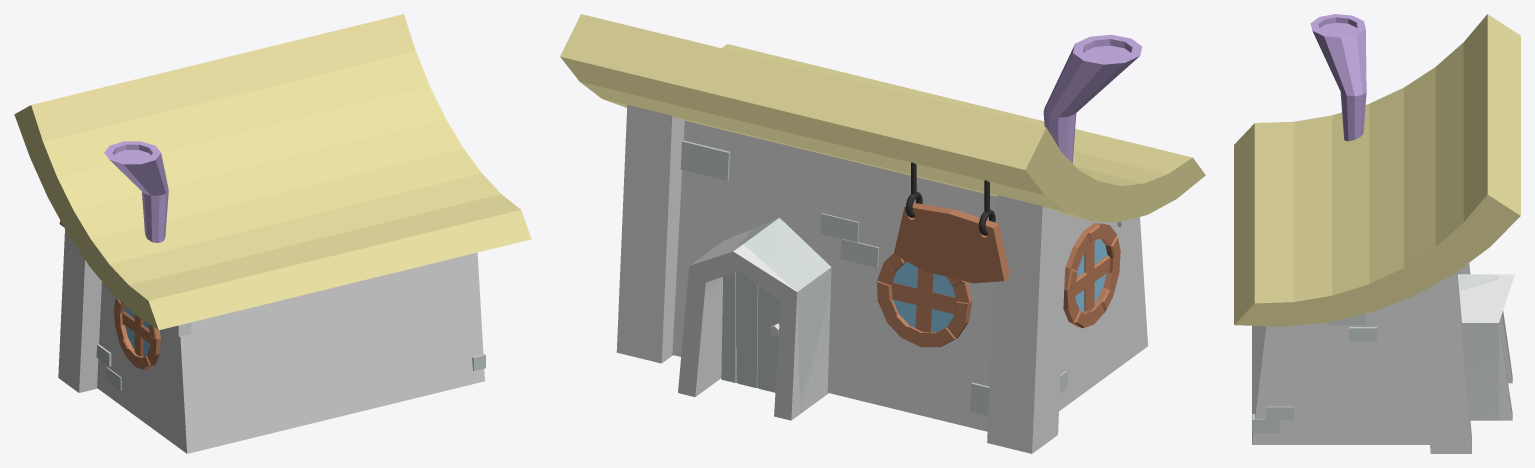
File: House 1.fbx
3 views of the same model, side by side, from view 1: azimuth 30°, elevation 25°; view 2: azimuth 150°, elevation 25°; view 3: azimuth 270°, elevation 25° (orthographic). The views are drawn at different scales.
Visible parts, largest first — view 1: Arc, Cube.002, Cube.004, Cylinder.007, Cylinder.006; view 2: Arc, Cube.002, Cube.004, Cube.003, Polygon.002, Polygon.001, Logo, Door, Cylinder.007, Cylinder.005, Cylinder.006, Circle (+4 smaller); view 3: Arc, Cube.002, Cube.003, Polygon.002, Cylinder.007, Polygon.001, Cube.015, Cube.013, Cube.014.
Part boxes in pixels (left/top/right/bottom): Arc: left=14, top=14, right=531, bottom=330; Cube.002: left=97, top=252, right=484, bottom=453; Cube.004: left=58, top=229, right=101, bottom=392; Cylinder.007: left=104, top=141, right=168, bottom=242; Cylinder.006: left=114, top=297, right=160, bottom=369; Arc: left=560, top=14, right=1205, bottom=222; Cube.002: left=672, top=120, right=1147, bottom=431; Cube.004: left=987, top=195, right=1067, bottom=453; Cube.003: left=616, top=105, right=684, bottom=363; Polygon.002: left=678, top=222, right=830, bottom=420; Polygon.001: left=696, top=217, right=831, bottom=413; Logo: left=893, top=203, right=1009, bottom=283; Door: left=721, top=271, right=780, bottom=392; Cylinder.007: left=1043, top=34, right=1142, bottom=162; Cylinder.005: left=876, top=253, right=971, bottom=347; Cylinder.006: left=1063, top=223, right=1120, bottom=328; Circle: left=892, top=262, right=955, bottom=332; Arc: left=1234, top=14, right=1520, bottom=326; Cube.002: left=1252, top=295, right=1429, bottom=444; Cube.003: left=1416, top=271, right=1471, bottom=453; Polygon.002: left=1458, top=274, right=1514, bottom=420; Cylinder.007: left=1310, top=14, right=1366, bottom=141; Polygon.001: left=1457, top=274, right=1498, bottom=420; Cube.015: left=1266, top=406, right=1294, bottom=420; Cube.013: left=1349, top=327, right=1376, bottom=341; Cube.014: left=1252, top=414, right=1280, bottom=432.
Size of the model in its own units: 796 by 557 by 535.
